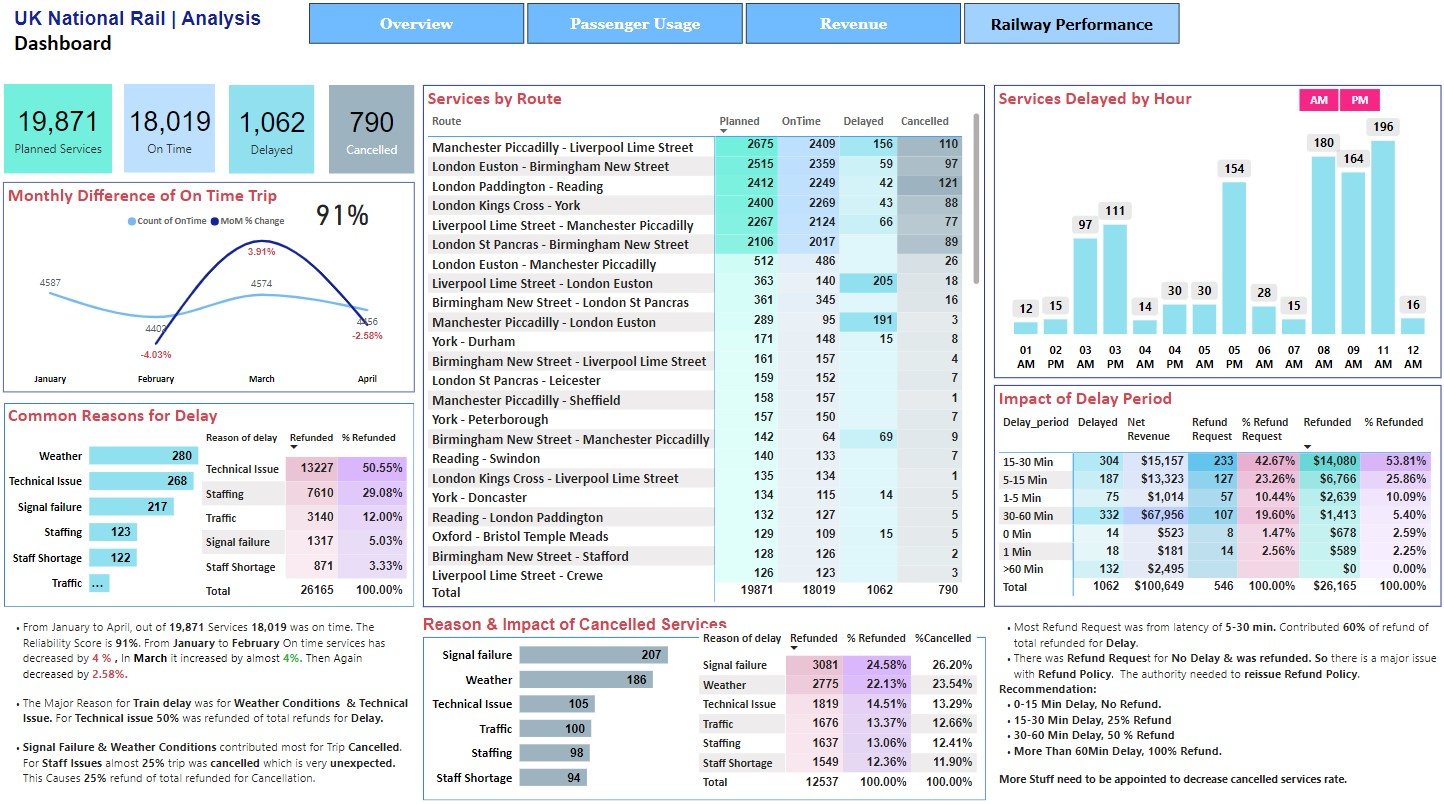

This screenshot's page, from the dashboard's own definition file:
{"tool":"powerbi","page":{"name":"Railway Performance","canvas":[1780,1000],"ordinal":3},"visuals":[{"type":"shape","box":[6.8,500,505.4,251.4],"z":0},{"type":"shape","title":"Reason & Impact of Cancelled Services","box":[521.6,760.8,693.2,228.4],"z":1000},{"type":"pageNavigator","title":"Uk Rail Dashboard","box":[381.8,7.4,1073.9,50.5],"z":2000},{"type":"textbox","box":[13.5,7.4,325.1,81.3],"z":3000},{"type":"card","fields":{"Values":["CountNonNull(railway(distinct).railway_Route)"]},"box":[5.5,106.7,133.1,109.5],"z":4000},{"type":"card","fields":{"Values":["CountNonNull(railway_distinct.OnTime)"]},"box":[154.1,106.8,112.2,109.5],"z":5000},{"type":"card","fields":{"Values":["CountNonNull(railway_distinct.delayed)"]},"box":[283.8,108.1,105.4,109.5],"z":6000},{"type":"card","fields":{"Values":["CountNonNull(railway_distinct.cancelled)"]},"box":[406.8,108.1,105.4,109.5],"z":7000},{"type":"lineChart","title":"Monthly Difference of On Time Trip","fields":{"Y2":["railway_distinct.Count of OnTime MoM%"],"Y":["CountNonNull(railway_distinct.OnTime)"],"Category":["railway_distinct.railway_Date of Journey.Variation.Date Hierarchy.Month"]},"box":[5.4,228.4,506.8,259.5],"z":8000},{"type":"barChart","title":"Common Reasons for Delay","fields":{"Y":["CountNonNull(railway_distinct.delayed)"],"Category":["railway_distinct.Reason for delay"]},"box":[6.8,500,273,251.4],"z":9000},{"type":"columnChart","title":"Services Delayed by Hour","fields":{"Category":["railway_distinct.railway_NormalizedHour"],"Y":["CountNonNull(railway_distinct.delayed)"]},"box":[1225.7,108.1,551.4,360.8],"z":10000},{"type":"slicer","fields":{"Values":["railway_distinct.railway_TimePeriod"]},"box":[1577.6,108.1,146.9,34.7],"z":11000},{"type":"pivotTable","title":"Services by Route","fields":{"Rows":["railway_distinct.railway_Route"],"Values":["CountNonNull(railway_distinct.railway_Route)","CountNonNull(railway_distinct.OnTime)","CountNonNull(railway_distinct.delayed)","CountNonNull(railway_distinct.cancelled)"]},"box":[521.6,108.1,691.9,643.2],"z":12000},{"type":"pivotTable","title":"Impact of Delay Period","fields":{"Values":["Count(railway.Delayed)","Sum(railway.Net Revenue)","CountNonNull(railway.Refund_yes)","Sum(railway.Refund_yes)1","Sum(railway.Refunded)","Divide(Sum(railway.Refunded), ScopedEval(Sum(railway.Refunded), []))"],"Rows":["railway.Delay_period"]},"box":[1225.7,478.4,551.4,273],"z":13000},{"type":"barChart","title":"Common Reasons for Cancelled Trips","fields":{"Y":["CountNonNull(railway_distinct.cancelled)"],"Category":["railway_distinct.Reason for delay"]},"box":[527,774.3,340.5,214.9],"z":14000},{"type":"textbox","box":[6.8,760.8,505.4,232.4],"z":15000},{"type":"card","fields":{"Values":["railway_distinct.OnTime Relaibility Score"]},"box":[382.4,240.5,79.7,48.6],"z":16000},{"type":"pivotTable","fields":{"Rows":["railway.Reason of delay"],"Values":["Sum(railway.Refund_Cancelled)","Divide(Sum(railway.Refund_Cancelled), ScopedEval(Sum(railway.Refund_Cancelled), []))","railway.cancelled"]},"box":[856.8,771.6,356.8,214.9],"z":17000},{"type":"textbox","box":[1226,761,551,228],"z":18000},{"type":"pivotTable","fields":{"Rows":["railway.Reason of delay"],"Values":["Sum(railway.Refund_delayed)","Divide(Sum(railway.Refund_delayed), ScopedEval(Sum(railway.Refund_delayed), []))"]},"box":[244.6,523,267.6,228.4],"z":19000}]}

Visuals, with their boxes in screenshot pixels (x1, y1, x2, y2), scaled from the page's 1780x1000 canvas onto the 1444x804 screenshot:
shape: 6:402:416:604
"Reason & Impact of Cancelled Services" shape: 423:612:985:795
"Uk Rail Dashboard" pageNavigator: 310:6:1181:47
textbox: 11:6:275:71
card - CountNonNull(railway(distinct).railway_Route): 4:86:112:174
card - CountNonNull(railway_distinct.OnTime): 125:86:216:174
card - CountNonNull(railway_distinct.delayed): 230:87:316:175
card - CountNonNull(railway_distinct.cancelled): 330:87:416:175
"Monthly Difference of On Time Trip" lineChart: 4:184:416:392
"Common Reasons for Delay" barChart: 6:402:227:604
"Services Delayed by Hour" columnChart: 994:87:1442:377
slicer - railway_distinct.railway_TimePeriod: 1280:87:1399:115
"Services by Route" pivotTable: 423:87:984:604
"Impact of Delay Period" pivotTable: 994:385:1442:604
"Common Reasons for Cancelled Trips" barChart: 428:623:704:795
textbox: 6:612:416:799
card - railway_distinct.OnTime Relaibility Score: 310:193:375:232
pivotTable - railway.Reason of delay x Sum(railway.Refund_Cancelled): 695:620:985:793
textbox: 995:612:1442:795
pivotTable - railway.Reason of delay x Sum(railway.Refund_delayed): 198:420:416:604
